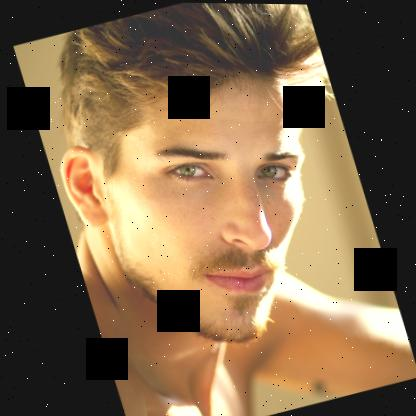Male: (35, 42, 363, 376)
